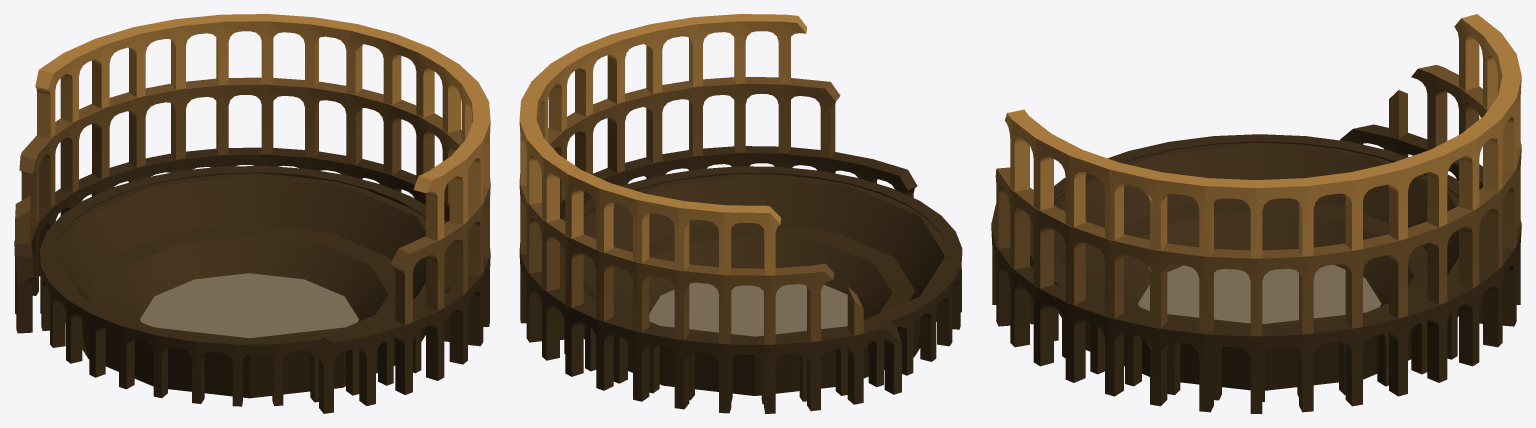
The model's file is coliseum.obj.
3 renders of one model, left to right at view 1: azimuth 30°, elevation 25°; view 2: azimuth 150°, elevation 25°; view 3: azimuth 270°, elevation 25°, orthographic. The views are drawn at different scales.
Visible parts, largest first — view 1: SM_Coliseum:SM_Coliseum; view 2: SM_Coliseum:SM_Coliseum; view 3: SM_Coliseum:SM_Coliseum.
Boxes of the visible parts, box(x1,y1,x2,y2) form: SM_Coliseum:SM_Coliseum: box(14, 14, 490, 413); SM_Coliseum:SM_Coliseum: box(519, 14, 962, 413); SM_Coliseum:SM_Coliseum: box(991, 14, 1521, 413).
Size of the model in its own units: 43.79 by 21.61 by 45.43.
